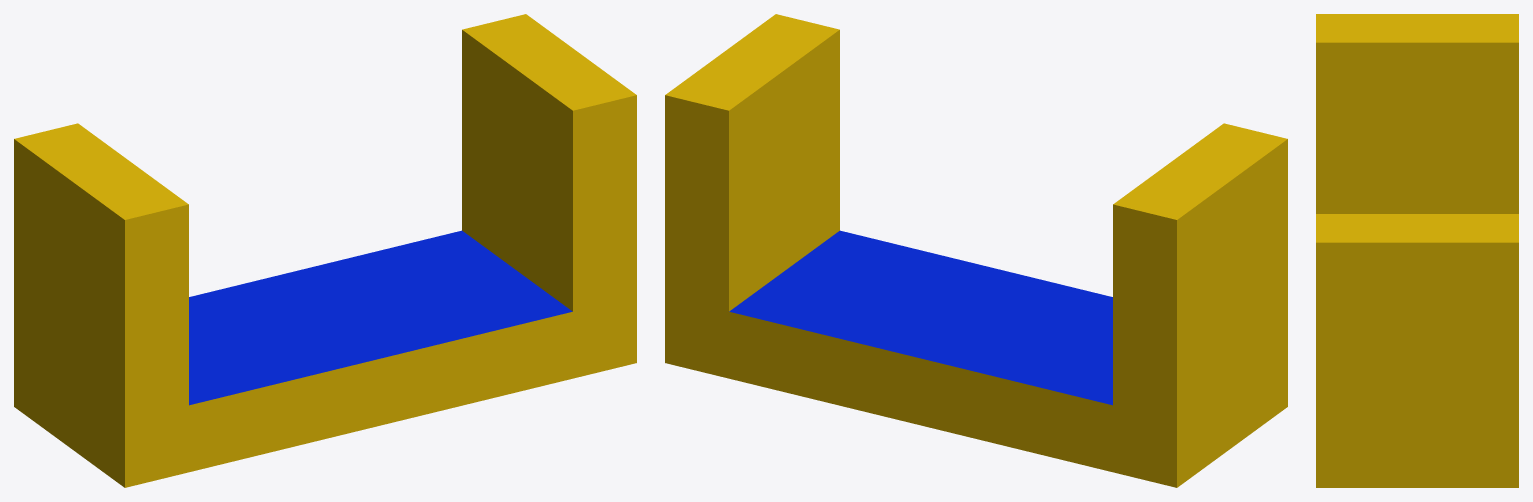
Rendered from couloir.fbx.
3 renders of one model, left to right at view 1: azimuth 30°, elevation 25°; view 2: azimuth 150°, elevation 25°; view 3: azimuth 270°, elevation 25°, orthographic. The views are drawn at different scales.
Visible parts, largest first — view 1: pCube53; view 2: pCube53; view 3: pCube53.
Part boxes in pixels (bbox=[...]): pCube53: bbox=[14, 14, 636, 487]; pCube53: bbox=[665, 14, 1287, 487]; pCube53: bbox=[1316, 14, 1518, 487].
Bounding box in the file's own units: 8 × 4 × 3.
